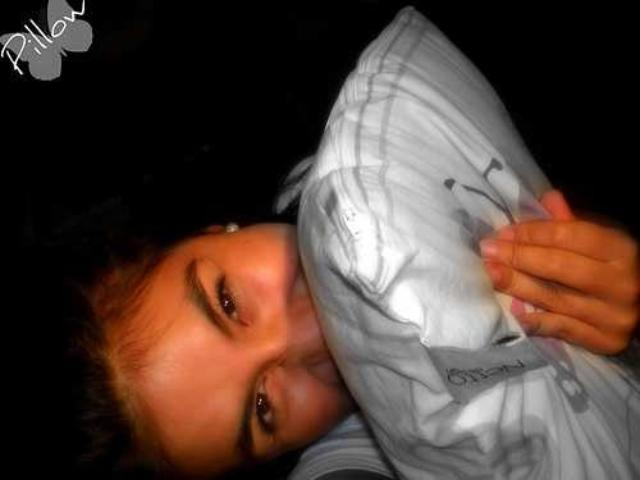pillow: (281, 4, 639, 478)
